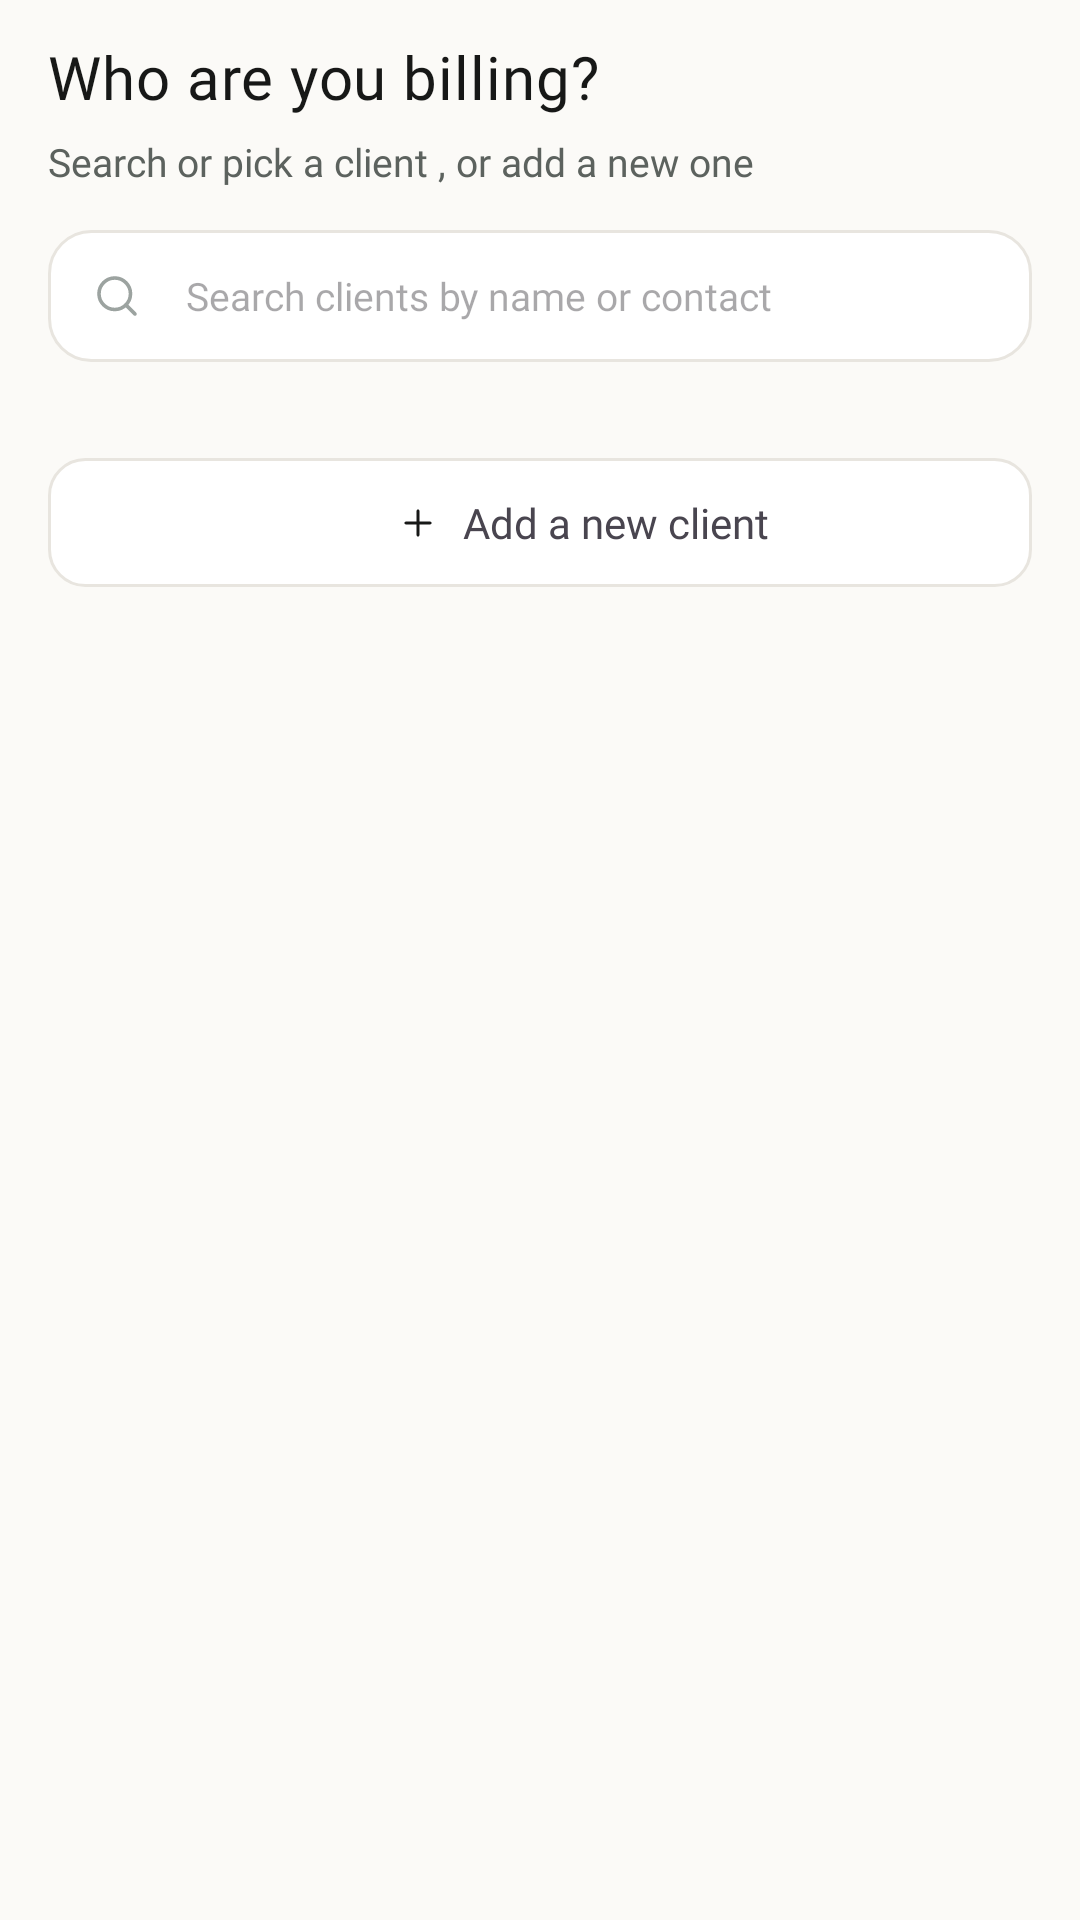

Icons on this 1080*1920 Android screen, each with the point to tap as (x,y):
plus: (418,523)
